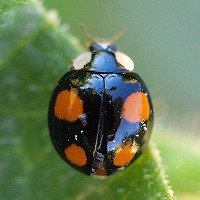Two_spots_mutant: (46, 22, 154, 178)
